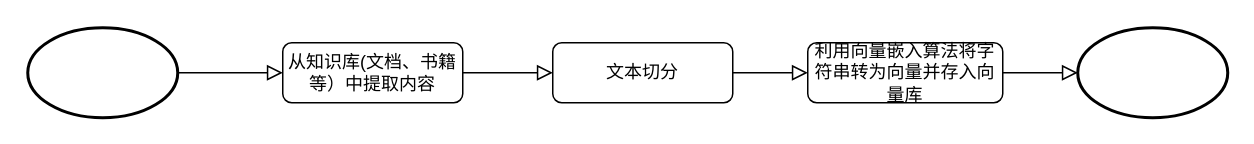
The diagram is 1254 pixels wide and 144 high, and some of its shapes have lost their labels. The centre of each missing label's shape, as x and y in pixels:
离线流程开始: point (102, 72)
离线流程结束: point (1152, 72)
